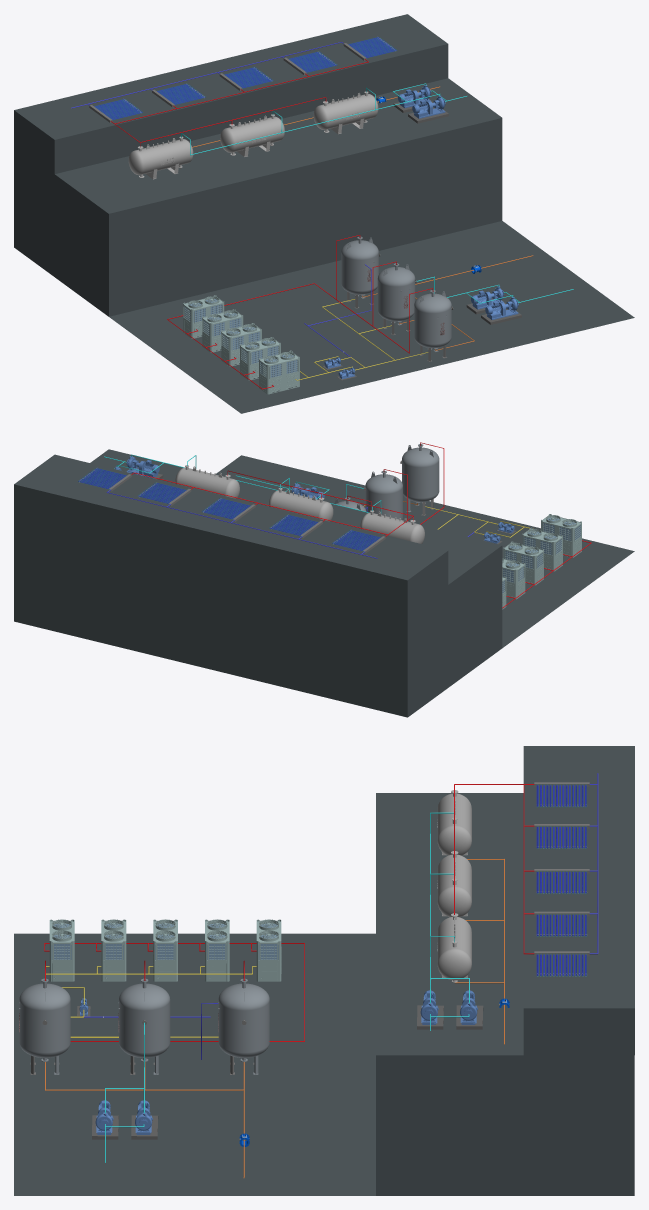
The picture shows the model from 3 angles, top to bottom: view 1: azimuth 30°, elevation 25°; view 2: azimuth 150°, elevation 25°; view 3: azimuth 270°, elevation 25°; orthographic projection. The views are drawn at different scales.
Visible parts, largest first — view 1: 立方体, 平面, 立方体.001, 储水罐-2, 储水罐-1, 储水罐-3, 卧式水罐-1, 卧式水罐-3, 卧式水罐-2, 空气源热泵-1, 空气源热泵-5, 空气源热泵-4 (+12 smaller); view 2: 立方体, 立方体.001, 平面, 储水罐-1, 储水罐-2, 卧式水罐-2, 卧式水罐-1, 卧式水罐-3, 空气源热泵-3, 空气源热泵-1, 空气源热泵-2, 空气源热泵-4 (+7 smaller); view 3: 平面, 立方体, 立方体.001, 储水罐-3, 储水罐-1, 储水罐-2, 卧式水罐-3, 卧式水罐-2, 卧式水罐-1, 空气源热泵-2, 空气源热泵-1, 空气源热泵-5 (+11 smaller).
Part boxes in pixels (x1=…): 立方体: x1=14, y1=78, x2=502, y2=316; 平面: x1=109, y1=221, x2=634, y2=413; 立方体.001: x1=14, y1=14, x2=448, y2=173; 储水罐-2: x1=377, y1=263, x2=416, y2=335; 储水罐-1: x1=414, y1=290, x2=453, y2=361; 储水罐-3: x1=341, y1=236, x2=380, y2=308; 卧式水罐-1: x1=128, y1=136, x2=193, y2=179; 卧式水罐-3: x1=313, y1=91, x2=378, y2=134; 卧式水罐-2: x1=220, y1=114, x2=284, y2=156; 空气源热泵-1: x1=259, y1=350, x2=299, y2=394; 空气源热泵-5: x1=183, y1=295, x2=224, y2=338; 空气源热泵-4: x1=202, y1=309, x2=243, y2=352; 立方体: x1=14, y1=449, x2=502, y2=717; 立方体.001: x1=14, y1=454, x2=448, y2=614; 平面: x1=215, y1=455, x2=634, y2=648; 储水罐-1: x1=400, y1=444, x2=439, y2=515; 储水罐-2: x1=364, y1=470, x2=402, y2=519; 卧式水罐-2: x1=268, y1=488, x2=333, y2=521; 卧式水罐-1: x1=360, y1=510, x2=424, y2=543; 卧式水罐-3: x1=175, y1=465, x2=239, y2=498; 空气源热泵-3: x1=503, y1=541, x2=543, y2=585; 空气源热泵-1: x1=541, y1=514, x2=581, y2=557; 空气源热泵-2: x1=522, y1=527, x2=562, y2=571; 空气源热泵-4: x1=502, y1=558, x2=525, y2=599; 平面: x1=14, y1=933, x2=375, y2=1195; 立方体: x1=376, y1=793, x2=634, y2=1195; 立方体.001: x1=523, y1=746, x2=634, y2=1055; 储水罐-3: x1=218, y1=978, x2=269, y2=1074; 储水罐-1: x1=19, y1=978, x2=70, y2=1074; 储水罐-2: x1=118, y1=978, x2=170, y2=1074; 卧式水罐-3: x1=437, y1=913, x2=471, y2=982; 卧式水罐-2: x1=437, y1=851, x2=471, y2=917; 卧式水罐-1: x1=437, y1=790, x2=471, y2=855; 空气源热泵-2: x1=101, y1=919, x2=126, y2=981; 空气源热泵-1: x1=49, y1=919, x2=74, y2=981; 空气源热泵-5: x1=256, y1=919, x2=281, y2=981.
Size of the model in its own units: 24 by 8.13 by 24.01.
